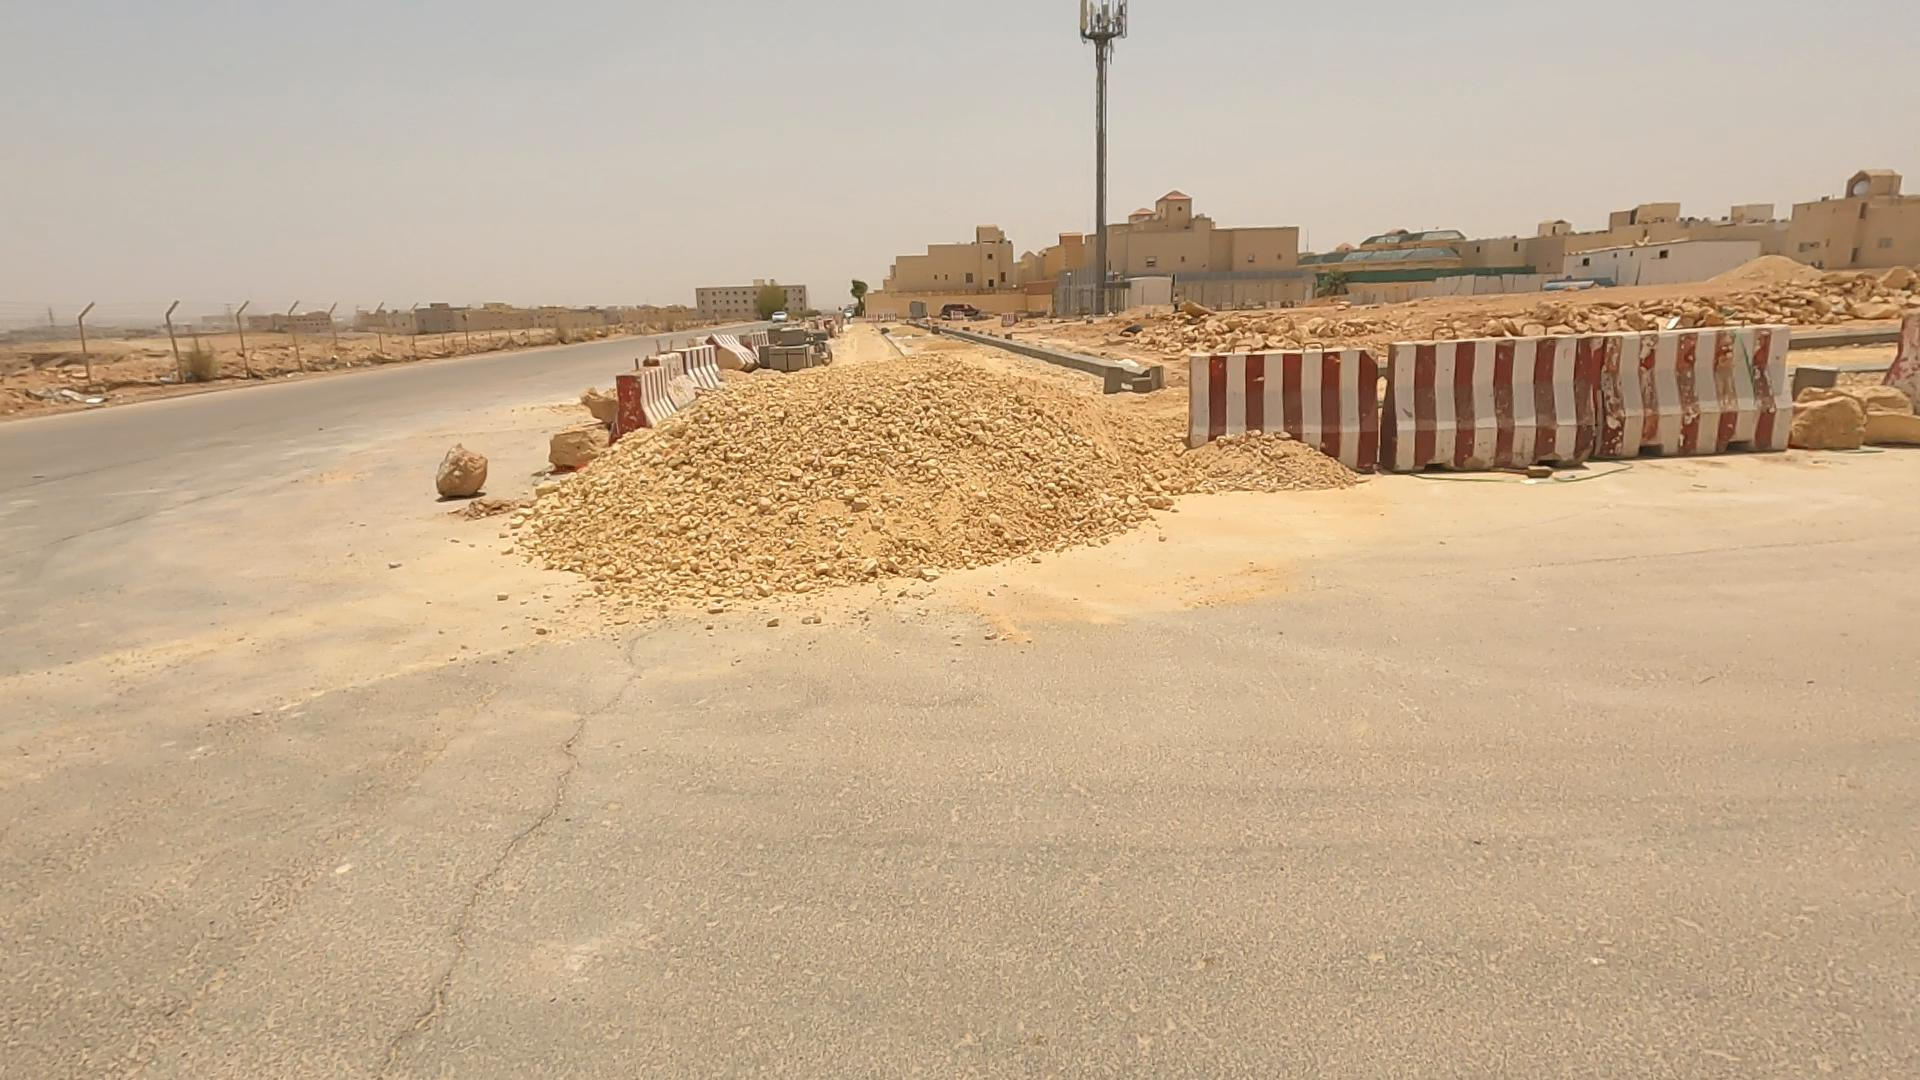CONSTRUCTION_ROAD: (901, 238, 1906, 550)
